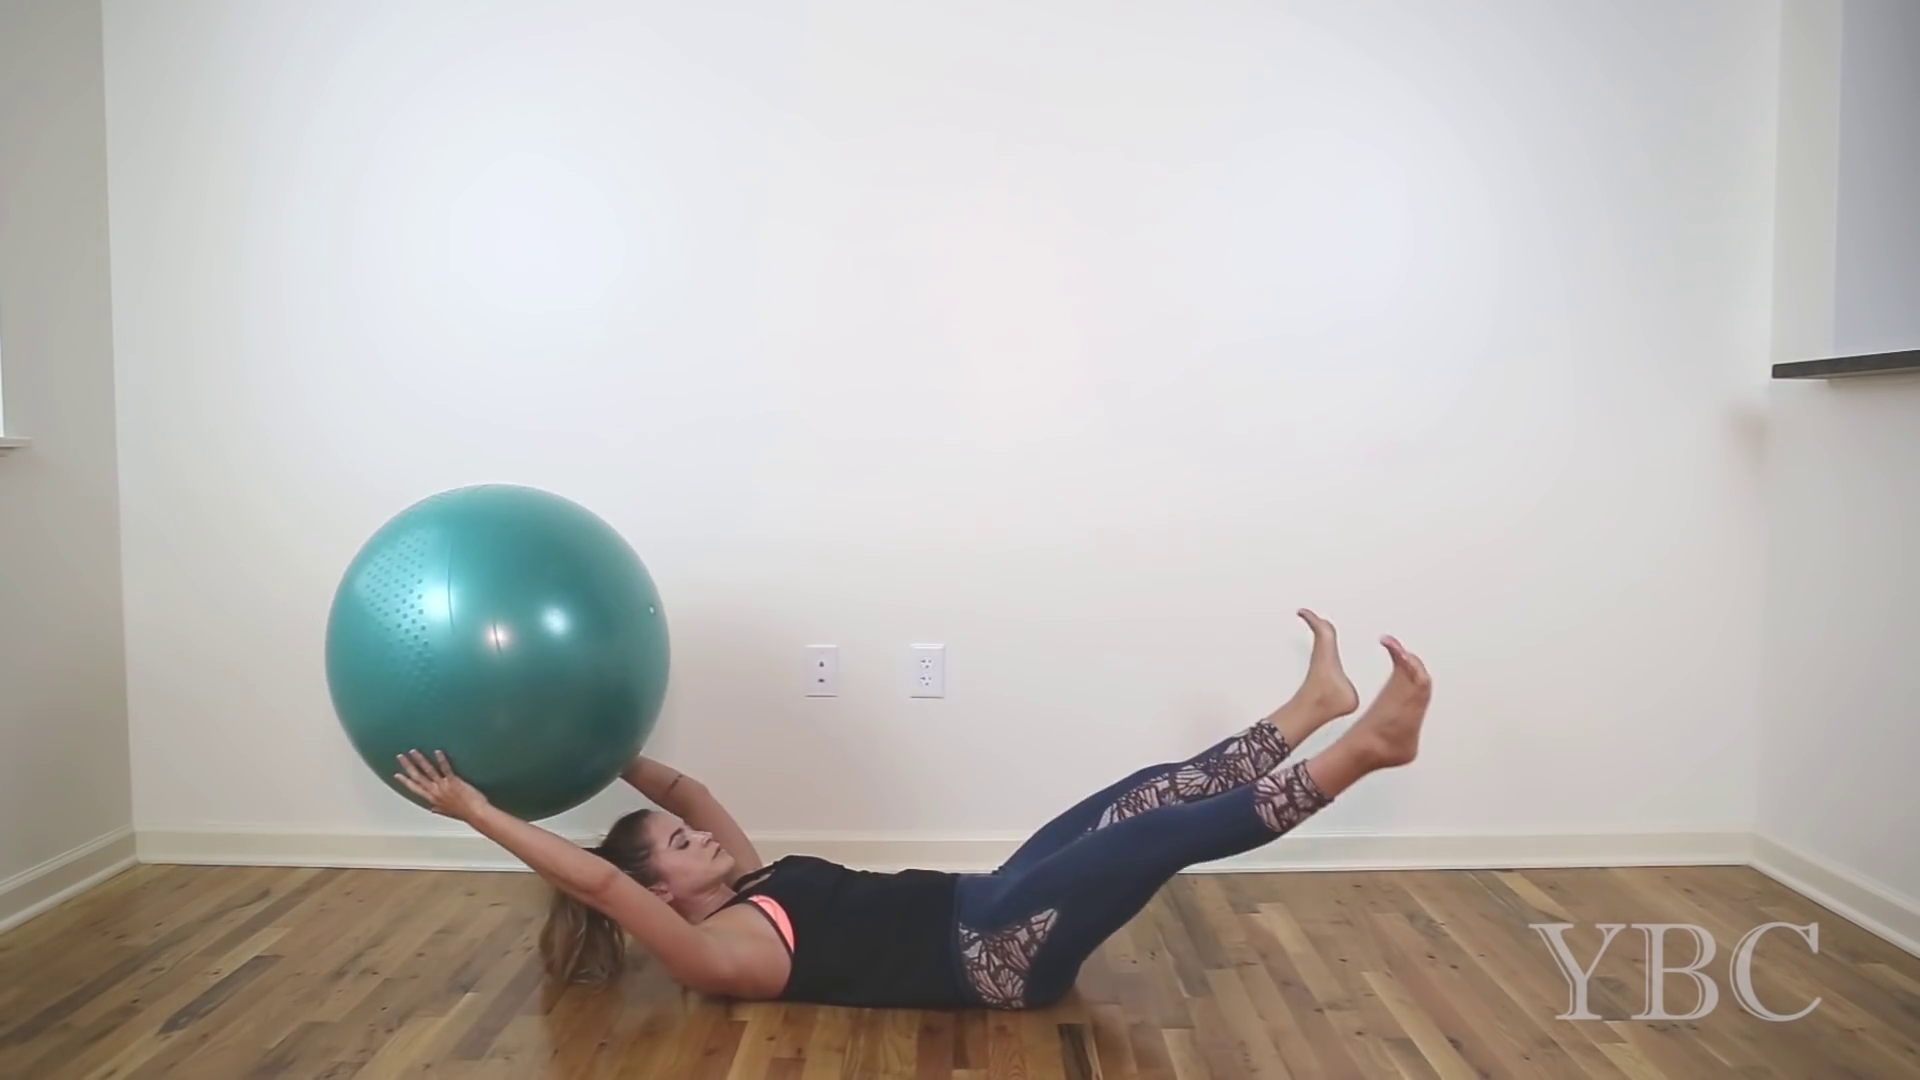yogaball: (301, 469, 703, 829)
